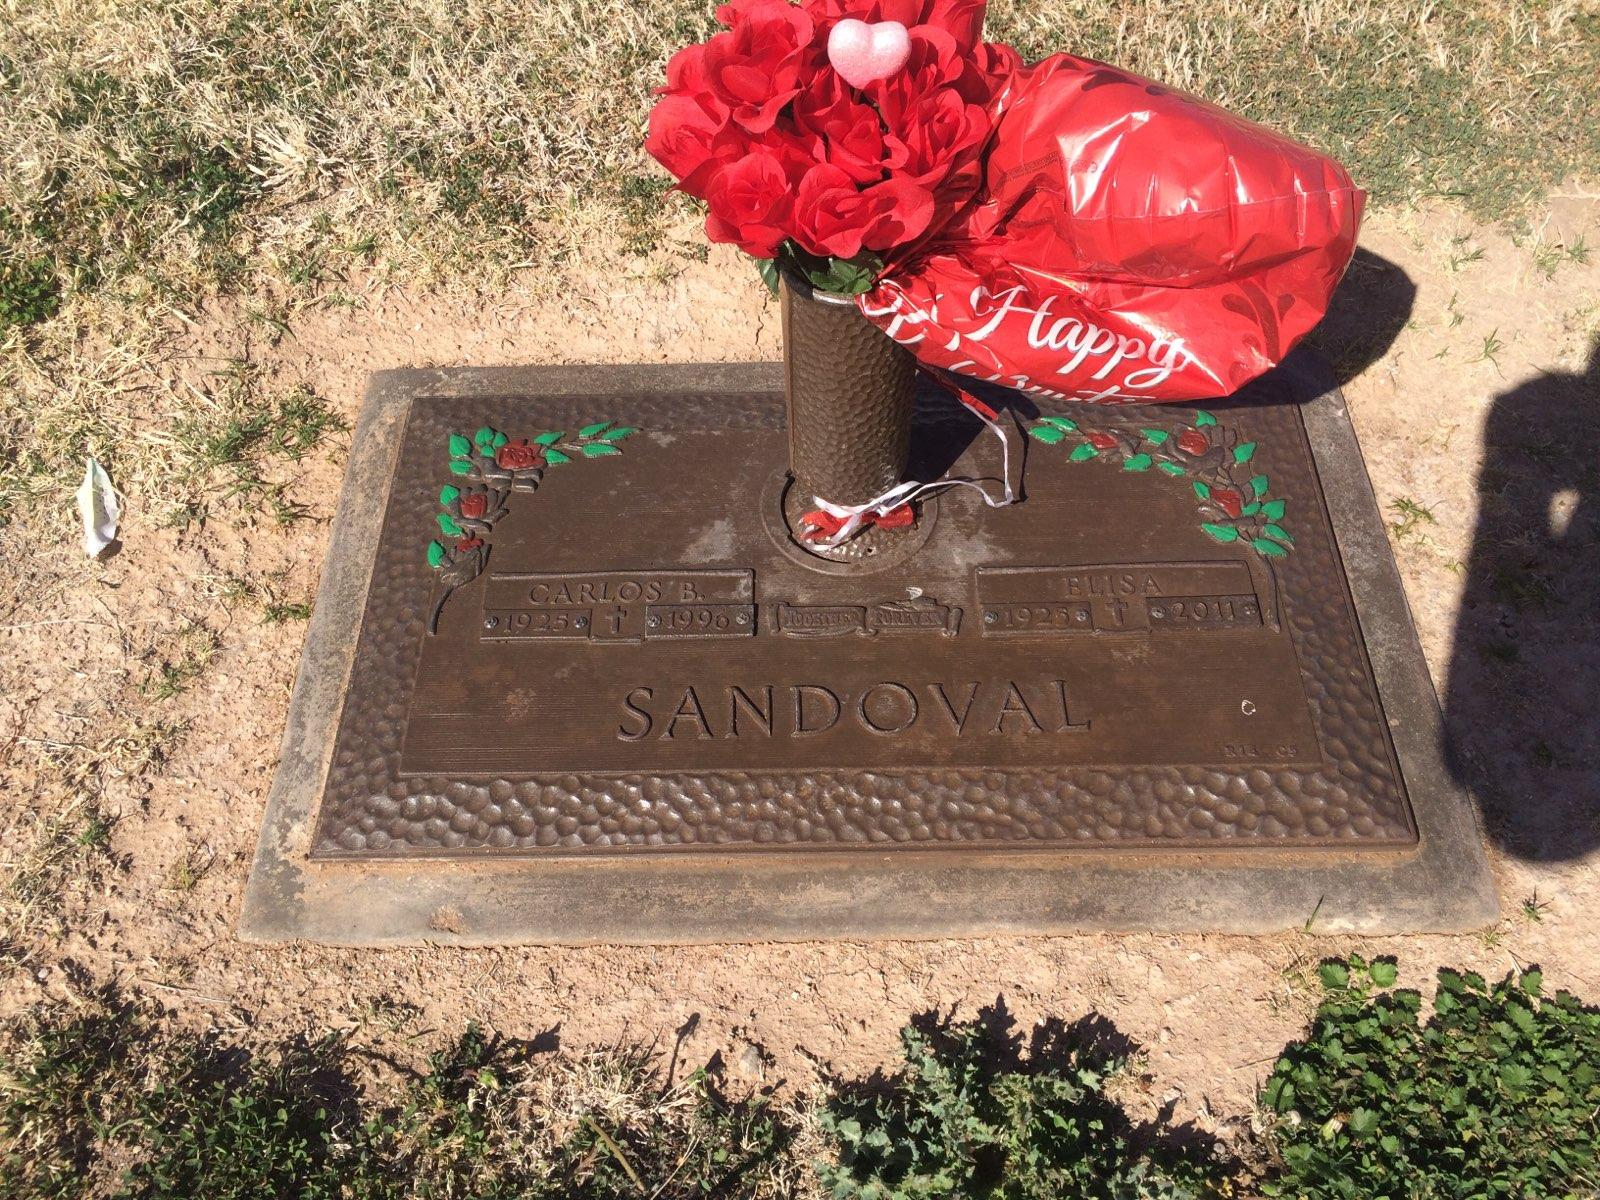flat: (233, 355, 1498, 948)
